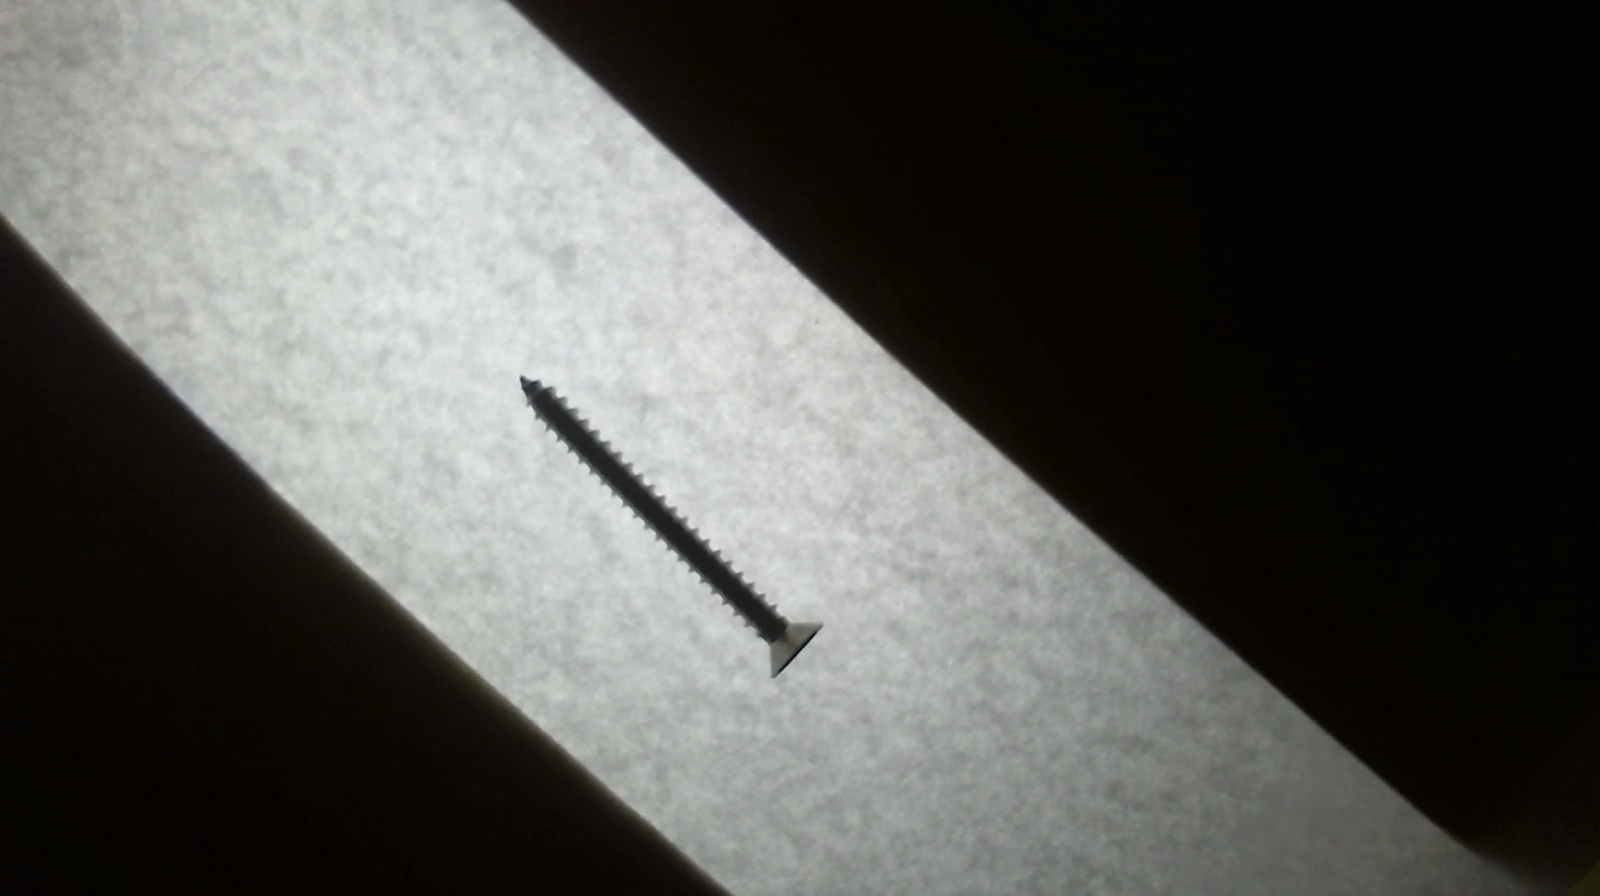S002: (505, 333, 843, 701)
